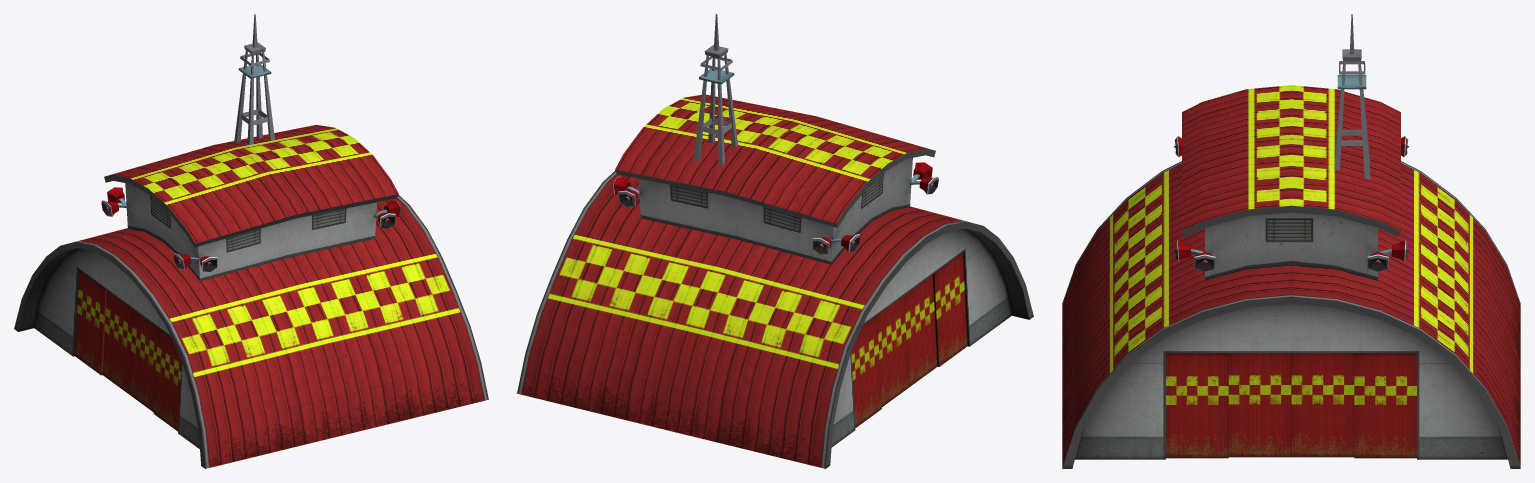
File: Hangar_Frefighter.fbx
3 views of the same model, side by side, from view 1: azimuth 30°, elevation 25°; view 2: azimuth 150°, elevation 25°; view 3: azimuth 270°, elevation 25° (orthographic). The views are drawn at different scales.
Parts seen in each view (by area): view 1: Hangar, Door_Front_01, Antenna, Door_Front_02, Door_Front_03, Door_Front_04; view 2: Hangar, Door_Front_04, Antenna, Door_Front_03, Door_Front_02, Door_Front_01; view 3: Hangar, Door_Back_03, Door_Back_02, Door_Back_04, Door_Back_01, Antenna.
Part boxes in pixels (x1,y1,x2,y2): Hangar: (14, 125, 488, 468); Door_Front_01: (75, 270, 106, 375); Antenna: (234, 14, 274, 144); Door_Front_02: (102, 290, 132, 393); Door_Front_03: (129, 309, 157, 411); Door_Front_04: (153, 328, 181, 431); Hangar: (517, 94, 1033, 468); Door_Front_04: (933, 252, 967, 366); Antenna: (693, 14, 738, 165); Door_Front_03: (904, 274, 937, 387); Door_Front_02: (877, 295, 908, 406); Door_Front_01: (851, 315, 881, 427); Hangar: (1062, 85, 1520, 468); Door_Back_03: (1291, 353, 1354, 457); Door_Back_02: (1228, 353, 1291, 457); Door_Back_04: (1354, 353, 1416, 458); Door_Back_01: (1166, 353, 1228, 458); Antenna: (1334, 14, 1370, 179).
Size of the model in its own units: 87.58 by 95.76 by 102.
